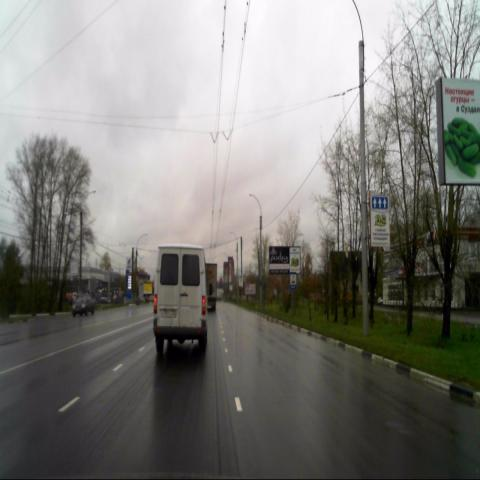7_5: (288, 271, 296, 290)
